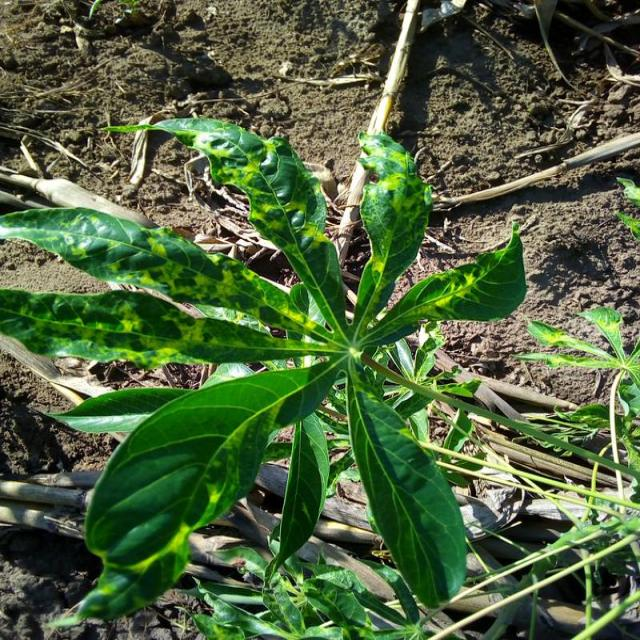cassava leaf: (1, 114, 529, 629), (106, 114, 348, 338), (344, 354, 467, 609)
